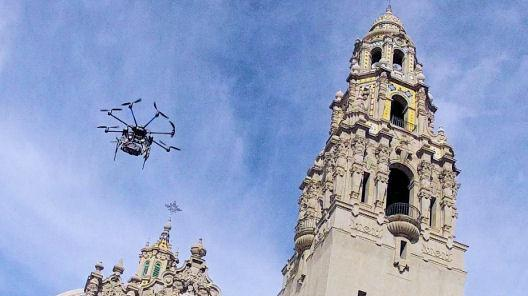UAV: (516, 280, 528, 296)
